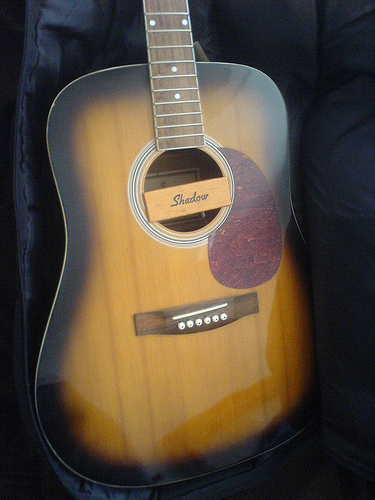guitar: (35, 2, 316, 490)
